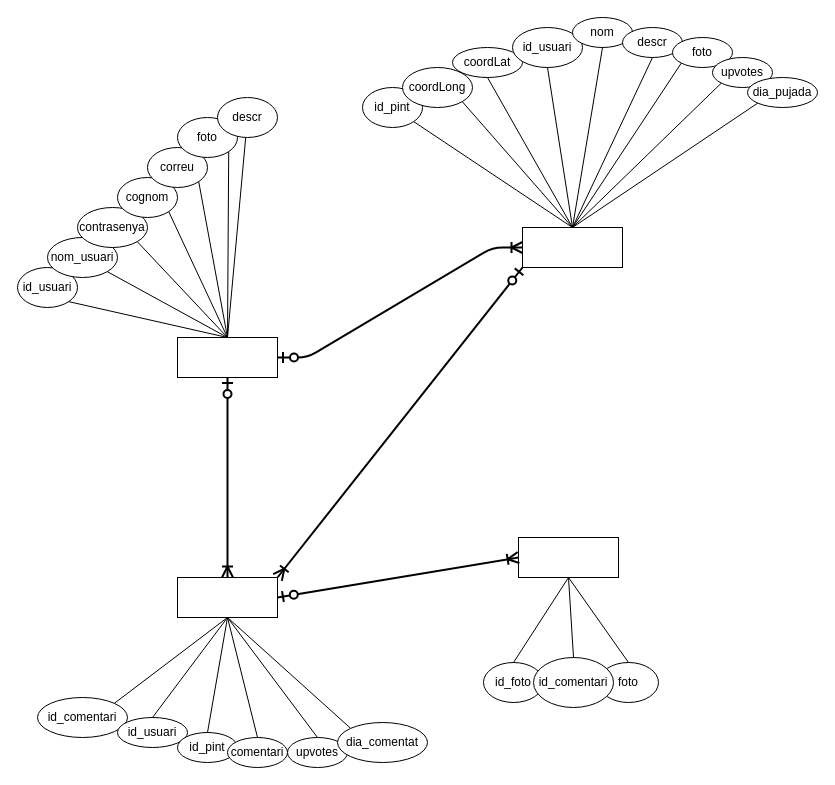
The diagram is 835 pixels wide and 785 high, and some of its shapes have lost their labels. The shapes that lost their labels are listed below. From the top down, each one's centre as x and y in pixels, then its label:
[572,247]: pint
[227,357]: usuaris
[568,557]: fotos
[227,597]: comentaris
